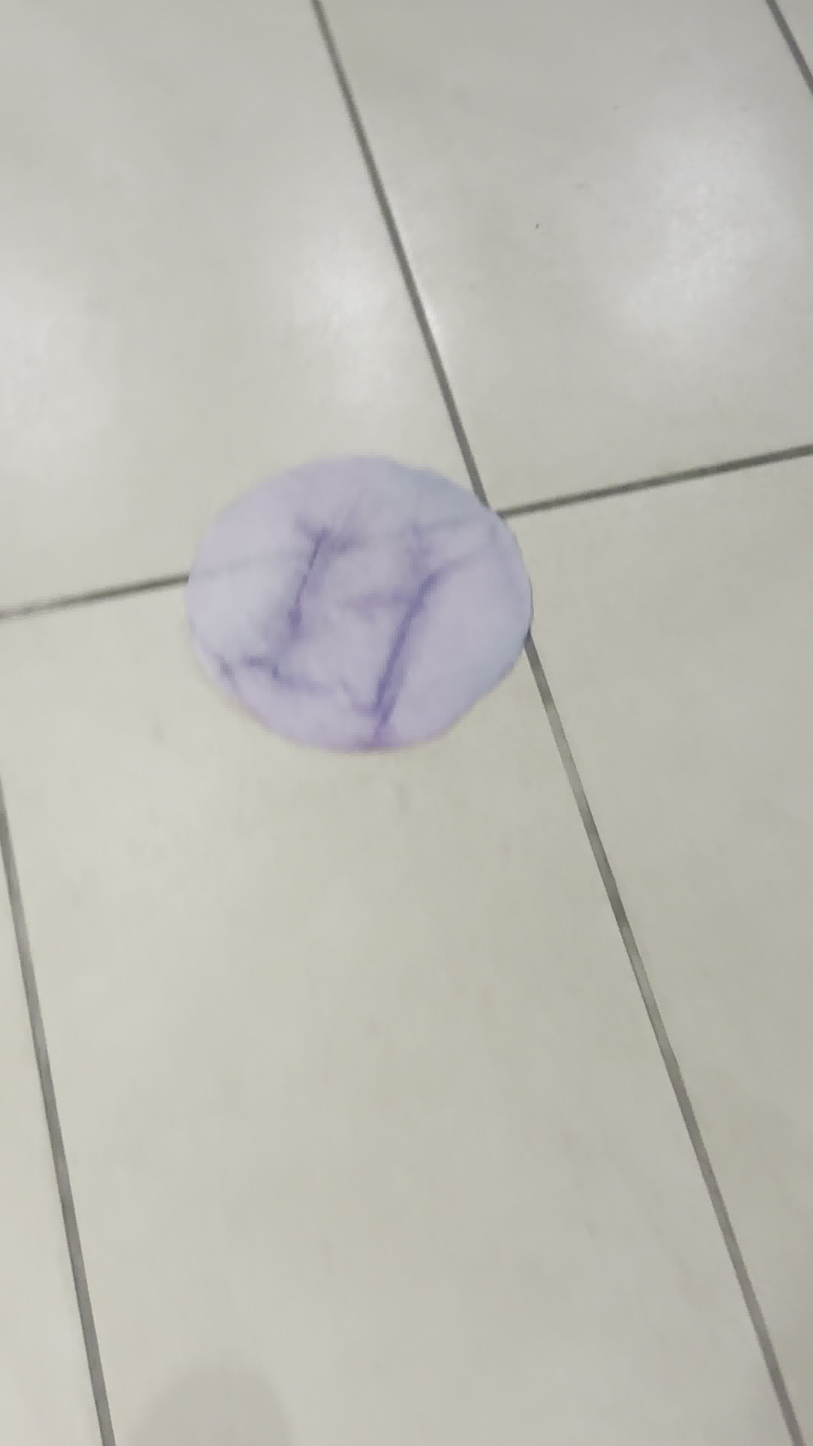Target: (188, 454, 535, 755)
